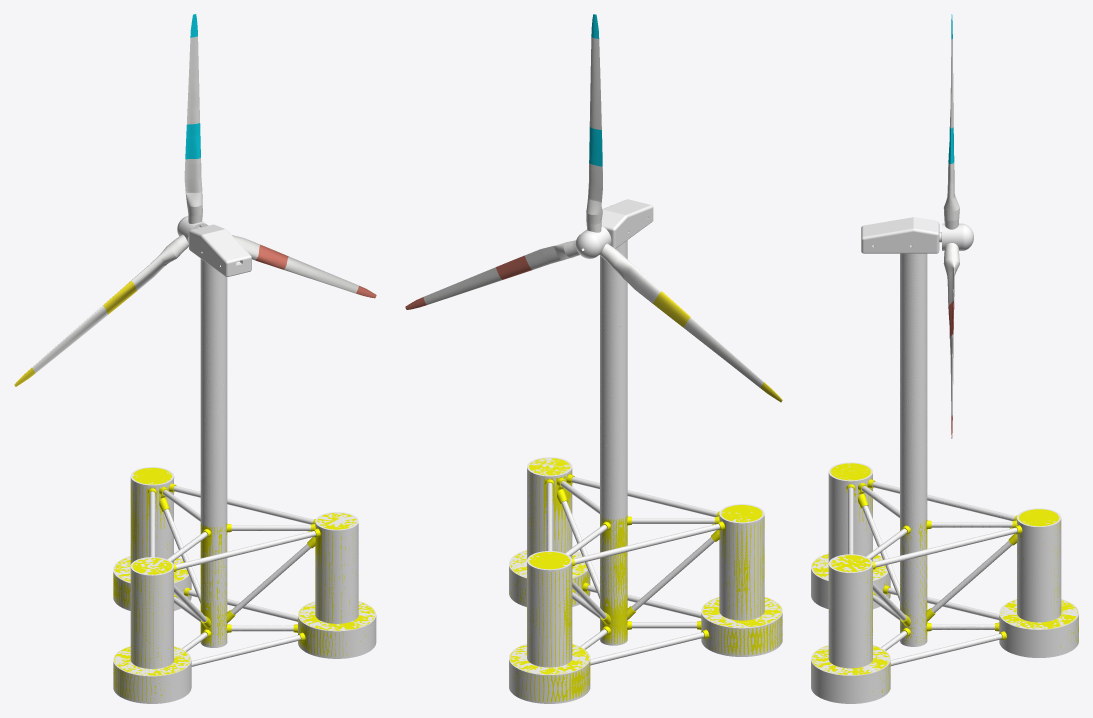
The model's file is OC4-modal.glb.
3 views of the same model, side by side, from view 1: azimuth 30°, elevation 25°; view 2: azimuth 150°, elevation 25°; view 3: azimuth 270°, elevation 25° (orthographic). The views are drawn at different scales.
Visible parts, largest first — view 1: OC4_Structure, pontoon_top.001, pontoon_top.002, pontoon_top, Body1.067, pilar_mid_b, bottom_blade.001, pilar_mid_t, pilar_top, pilar_mid_b (1) (1).001, mid_blade.001, bottom_blade (+10 smaller); view 2: OC4_Structure, pontoon_top, pontoon_top.002, pilar_mid_b, pontoon_top.001, pilar_mid_b (1) (1).001, pilar_top, Body1, Body1.067, Body1.012, pilar_base, bottom_blade (+11 smaller); view 3: OC4_Structure, Body1.067, pontoon_top.002, pontoon_top.001, pontoon_top, Body1.032, Body1.068, Body1.027, Body1.011, bottom_blade.001, pilar_mid_b, bottom_blade.002 (+7 smaller).
Boxes of the visible parts, left/top/right/bottom form: OC4_Structure: left=113, top=259, right=376, bottom=703; pontoon_top.001: left=300, top=513, right=373, bottom=630; pontoon_top.002: left=115, top=467, right=188, bottom=581; pontoon_top: left=116, top=558, right=189, bottom=675; Body1.067: left=189, top=224, right=251, bottom=267; pilar_mid_b: left=200, top=332, right=227, bottom=448; bottom_blade.001: left=184, top=158, right=202, bottom=226; pilar_mid_t: left=200, top=259, right=227, bottom=335; pilar_top: left=200, top=523, right=231, bottom=600; pilar_mid_b (1) (1).001: left=200, top=445, right=227, bottom=526; mid_blade.001: left=186, top=36, right=199, bottom=124; bottom_blade: left=131, top=234, right=188, bottom=290; OC4_Structure: left=509, top=240, right=782, bottom=703; pontoon_top: left=703, top=505, right=780, bottom=627; pontoon_top.002: left=511, top=552, right=588, bottom=674; pilar_mid_b: left=600, top=316, right=627, bottom=438; pontoon_top.001: left=511, top=458, right=586, bottom=577; pilar_mid_b (1) (1).001: left=600, top=433, right=627, bottom=519; pilar_top: left=600, top=515, right=631, bottom=596; Body1: left=697, top=597, right=782, bottom=655; Body1.067: left=601, top=199, right=653, bottom=239; Body1.012: left=510, top=644, right=590, bottom=702; pilar_base: left=600, top=592, right=636, bottom=643; bottom_blade: left=600, top=243, right=661, bottom=303; OC4_Structure: left=811, top=253, right=1078, bottom=703; Body1.067: left=861, top=217, right=939, bottom=246; pontoon_top.002: left=1001, top=509, right=1075, bottom=628; pontoon_top.001: left=813, top=555, right=888, bottom=674; pontoon_top: left=813, top=463, right=887, bottom=579; Body1.032: left=874, top=527, right=1017, bottom=567; Body1.068: left=861, top=243, right=939, bottom=253; Body1.027: left=872, top=481, right=1015, bottom=521; Body1.011: left=890, top=633, right=1002, bottom=665; bottom_blade.001: left=943, top=162, right=959, bottom=229; pilar_mid_b: left=900, top=324, right=927, bottom=443; bottom_blade.002: left=943, top=243, right=959, bottom=305.
Bounding box in the file's own units: 1.1 × 1.78 × 0.6885.
